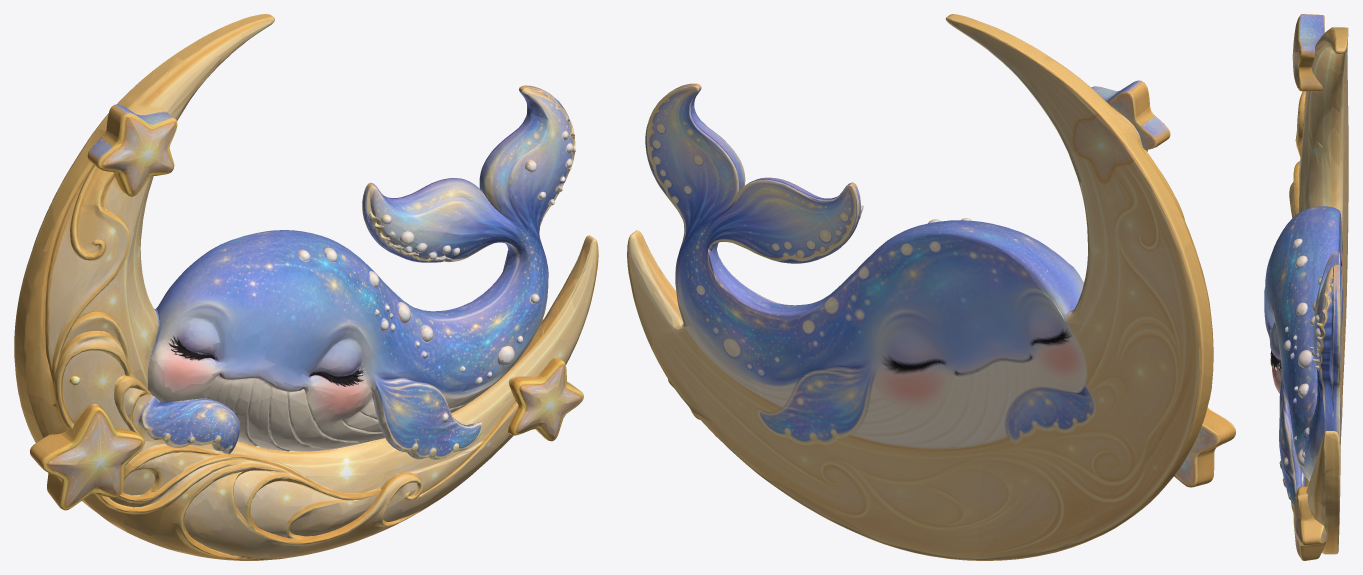
3 views of the same model, side by side, from view 1: azimuth 30°, elevation 25°; view 2: azimuth 150°, elevation 25°; view 3: azimuth 270°, elevation 25° (orthographic). The views are drawn at different scales.
Parts seen in each view (by area): view 1: output_unwrapped; view 2: output_unwrapped; view 3: output_unwrapped.
Part boxes in pixels (box(x1,y1,x2,y2)): output_unwrapped: box(14, 14, 598, 560); output_unwrapped: box(627, 14, 1235, 560); output_unwrapped: box(1264, 14, 1348, 560).
Bounding box in the file's own units: 1.9 × 1.71 × 0.2847.
1 material, 1 textured.
